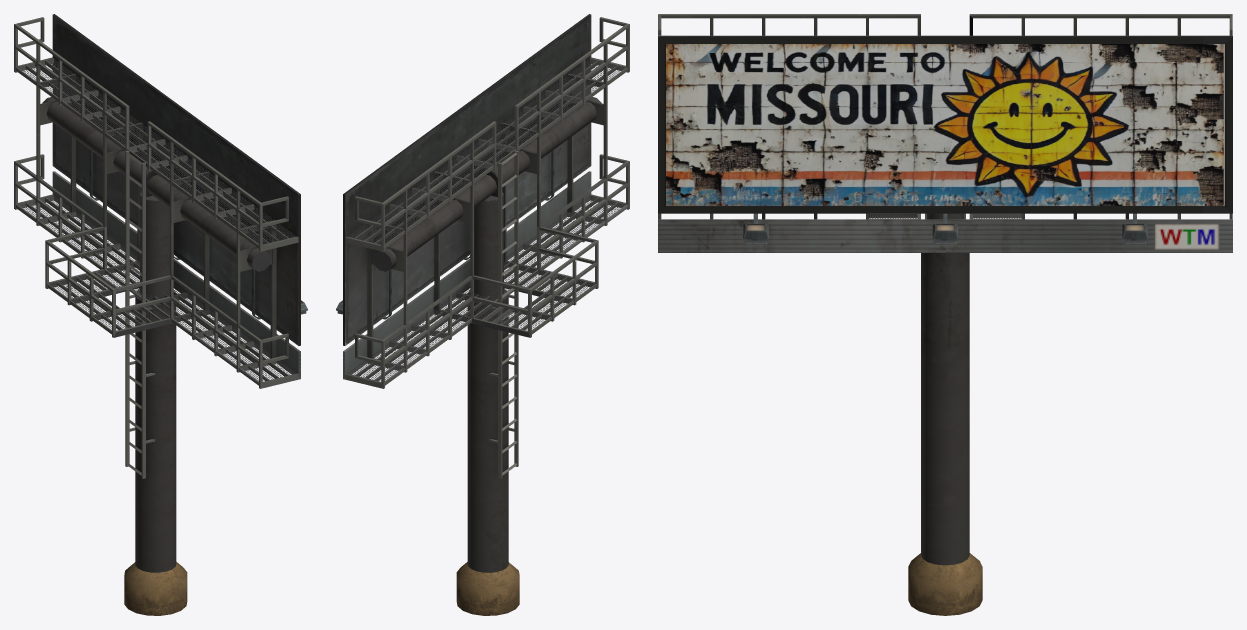
Rendered from billboard.fbx.
The picture shows the model from 3 angles, left to right: view 1: azimuth 30°, elevation 25°; view 2: azimuth 150°, elevation 25°; view 3: azimuth 270°, elevation 25°; orthographic projection. The views are drawn at different scales.
Visible parts, largest first — view 1: Platform, Billboard_Large, Post, Alpha, Bottom; view 2: Platform, Billboard_Large, Post, Alpha, Bottom; view 3: Billboard_Large, Post, Platform, Bottom.
Part boxes in pixels (x1,y1,x2,y2): Platform: (14,17,298,478); Billboard_Large: (52,14,307,379); Post: (40,97,271,572); Alpha: (17,58,296,381); Bottom: (124,562,187,615); Platform: (345,17,629,478); Billboard_Large: (336,14,591,379); Post: (371,97,603,572); Alpha: (348,58,626,381); Bottom: (456,562,519,615); Billboard_Large: (658,35,1232,252); Post: (921,213,969,565); Platform: (658,14,1232,219); Bottom: (908,553,982,615).
Bounding box in the file's own units: 368 × 1223 × 1107.
